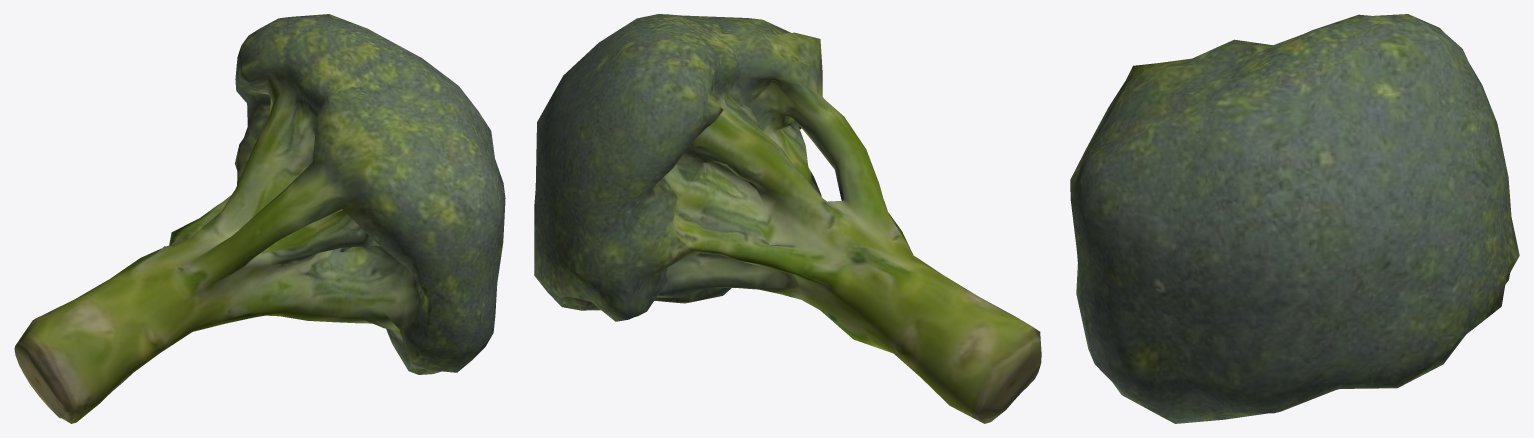
Rendered from A87_Broccoli_low.fbx.
3 views of the same model, side by side, from view 1: azimuth 30°, elevation 25°; view 2: azimuth 150°, elevation 25°; view 3: azimuth 270°, elevation 25° (orthographic). The views are drawn at different scales.
Parts seen in each view (by area): view 1: A87_Broccoli_low; view 2: A87_Broccoli_low; view 3: A87_Broccoli_low.
Boxes of the visible parts, left/top/right/bottom form: A87_Broccoli_low: left=14, top=14, right=505, bottom=423; A87_Broccoli_low: left=534, top=14, right=1041, bottom=423; A87_Broccoli_low: left=1070, top=14, right=1519, bottom=423.
Bounding box in the file's own units: 20.11 × 14 × 13.
Materials: 1 (1 with a texture image).
